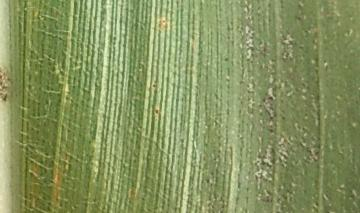tarspot: (2, 92, 9, 102), (267, 114, 275, 122), (223, 56, 230, 64), (160, 17, 166, 26), (153, 108, 160, 115), (267, 95, 274, 102), (267, 127, 274, 134), (280, 115, 286, 122), (150, 83, 157, 87), (1, 80, 3, 87), (1, 73, 3, 79)
